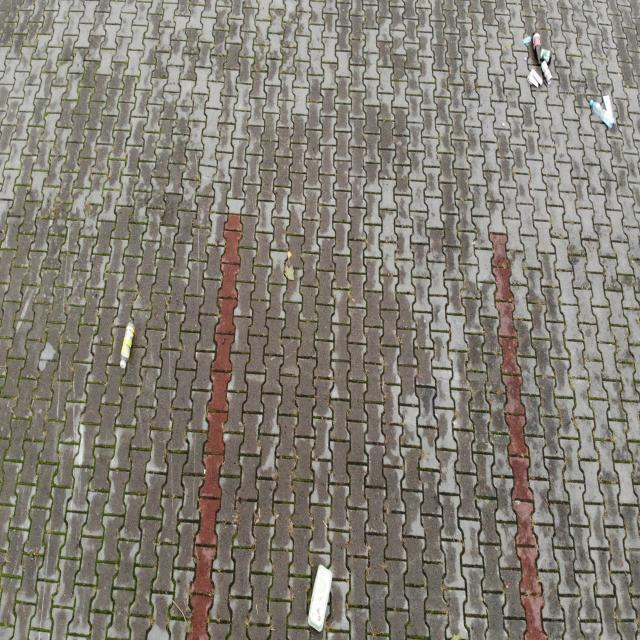rubbish: (307, 564, 333, 633), (119, 319, 135, 367), (589, 99, 614, 128), (602, 94, 616, 121), (526, 68, 544, 87), (531, 31, 540, 68), (540, 60, 552, 84), (539, 48, 552, 64), (522, 34, 533, 42), (524, 56, 527, 60)
